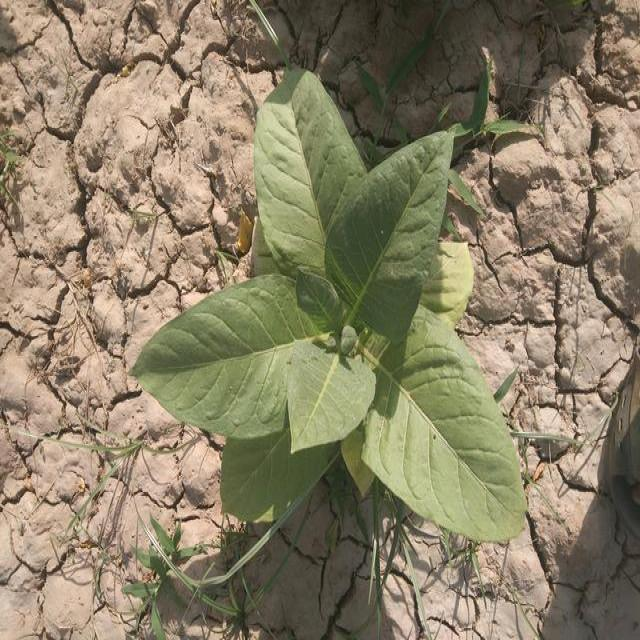crop: (125, 54, 546, 550)
